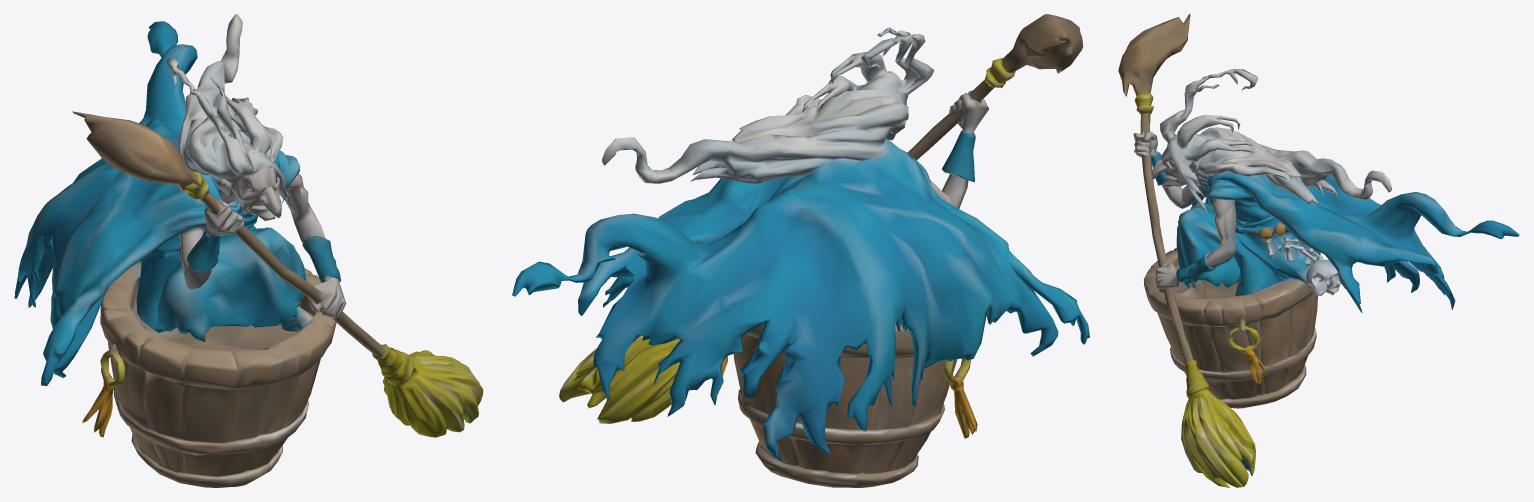
3 renders of one model, left to right at view 1: azimuth 30°, elevation 25°; view 2: azimuth 150°, elevation 25°; view 3: azimuth 270°, elevation 25°, orthographic. The views are drawn at different scales.
Parts seen in each view (by area): view 1: Meshy_AI_Moonlit_Hag_on_a_Broomstick_20261120_texture001; view 2: Meshy_AI_Moonlit_Hag_on_a_Broomstick_20261120_texture001; view 3: Meshy_AI_Moonlit_Hag_on_a_Broomstick_20261120_texture001.
Boxes of the visible parts, x1,y1,x2,y2 form: Meshy_AI_Moonlit_Hag_on_a_Broomstick_20261120_texture001: (14, 14, 483, 487); Meshy_AI_Moonlit_Hag_on_a_Broomstick_20261120_texture001: (512, 14, 1089, 487); Meshy_AI_Moonlit_Hag_on_a_Broomstick_20261120_texture001: (1118, 14, 1519, 487).
Size of the model in its own units: 0.019 by 0.0167 by 0.019.
